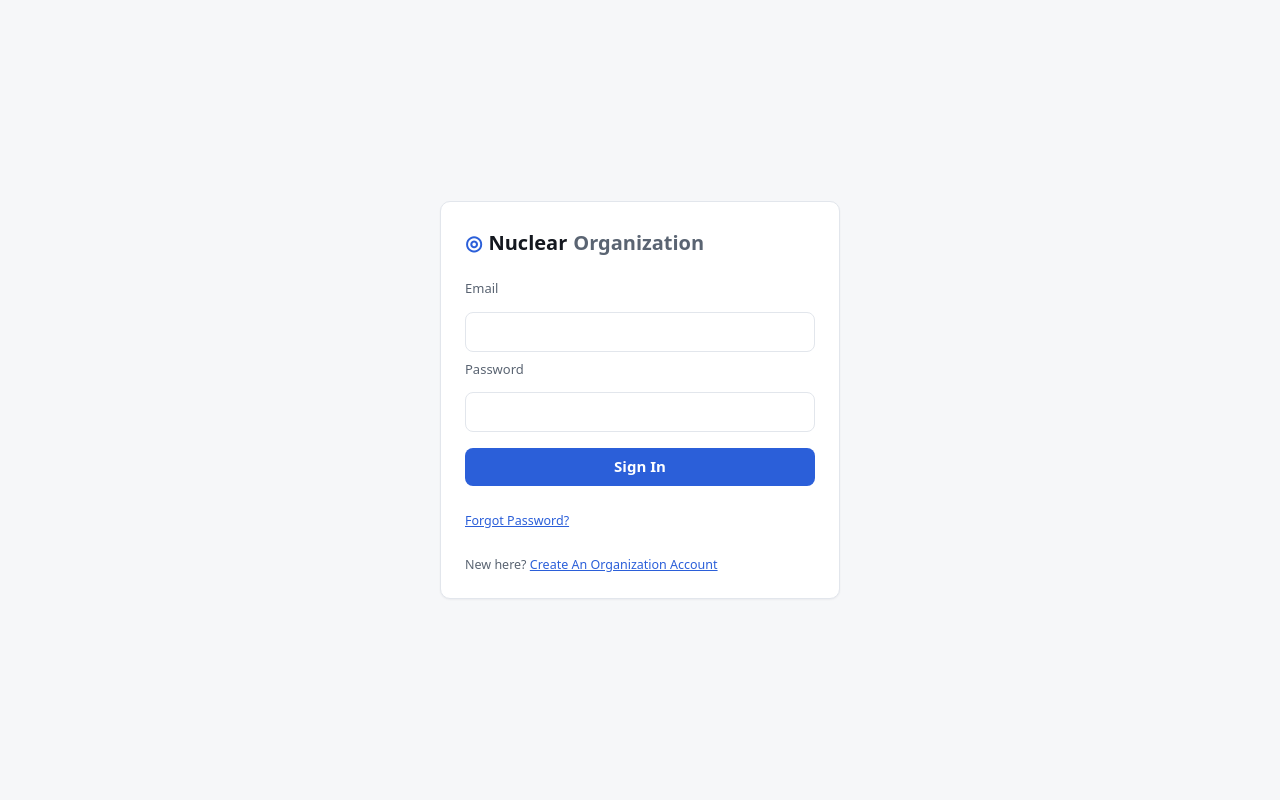
Test case: organization portal › mass edit › a flexible organization can only remove or clear the selection (no fixed-benefit actions)
Type "HR@Acme.test" into the field labelled "Email" at [640, 332], box [465,312,815,352]
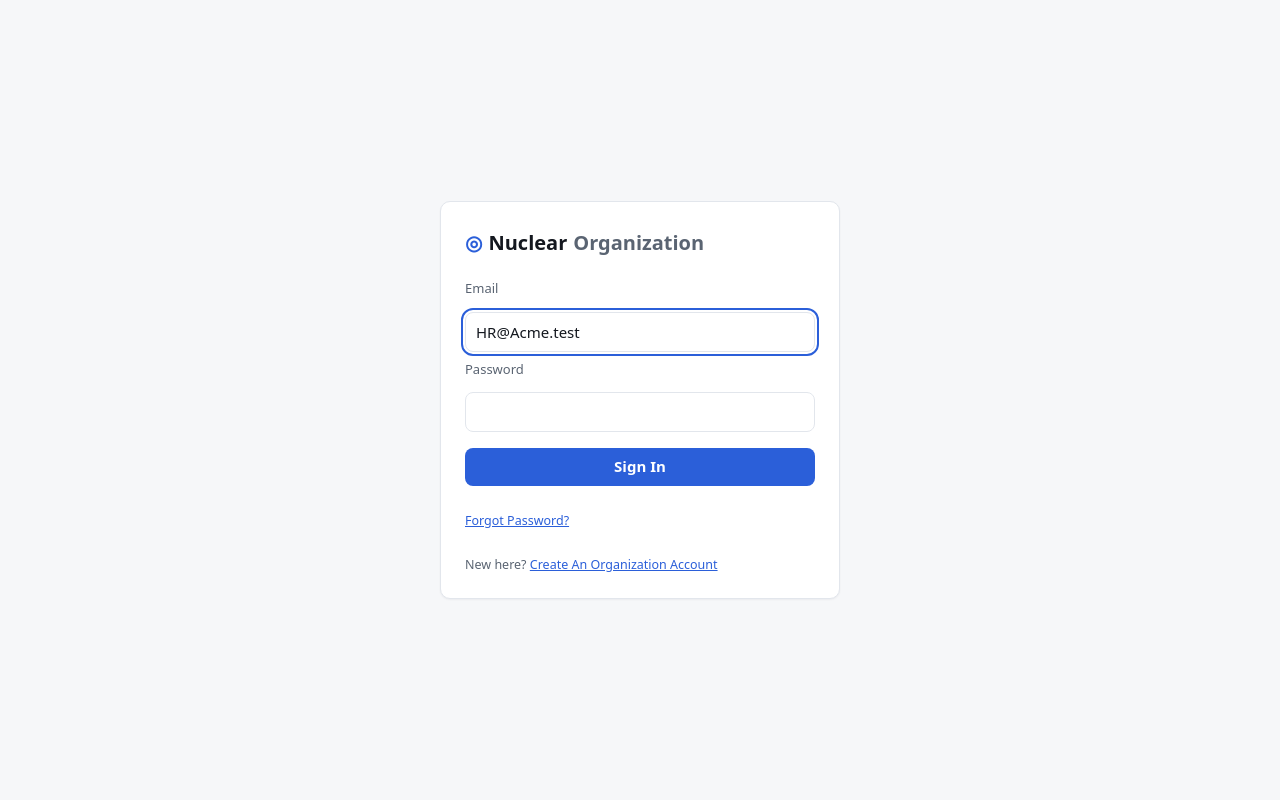
Type "correct horse battery" into the password field labelled "Password" at [640, 412], box [465,392,815,432]
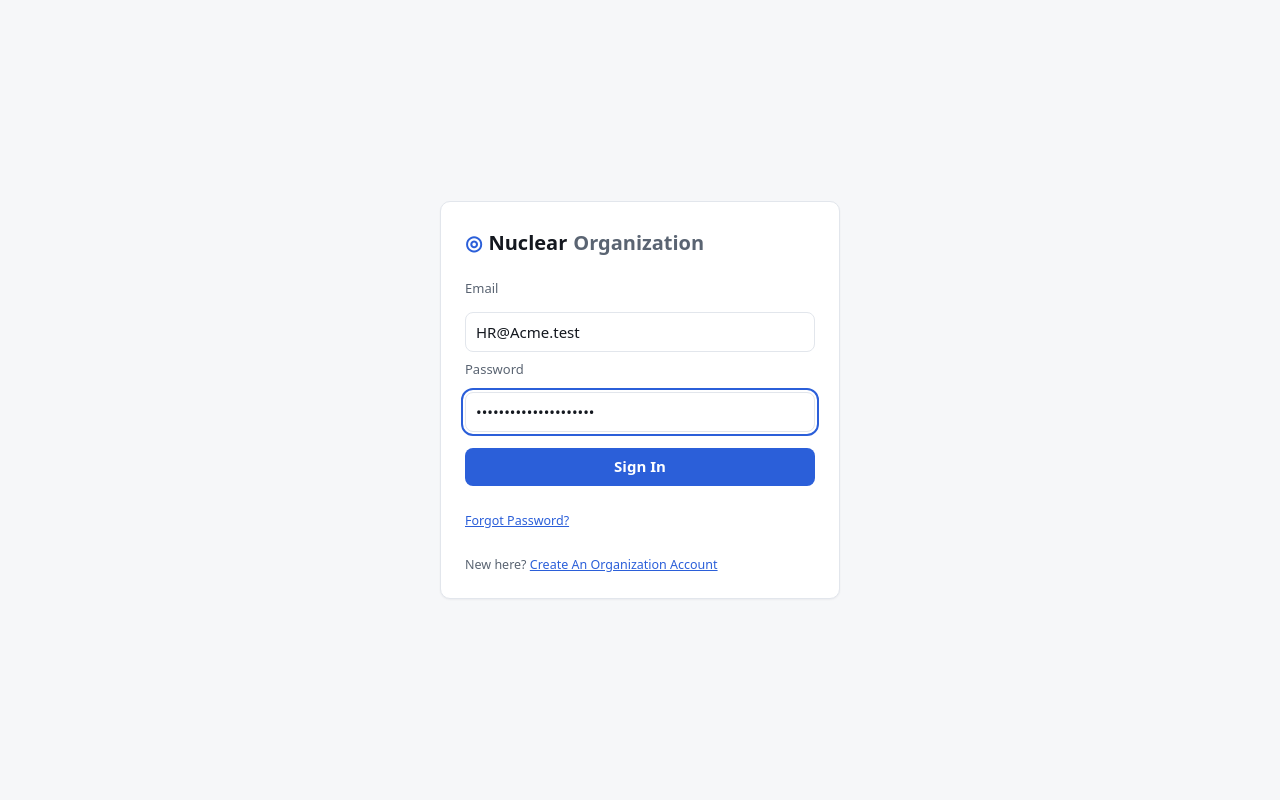
Click the button "Sign In" at [640, 467], box [465,448,815,486]
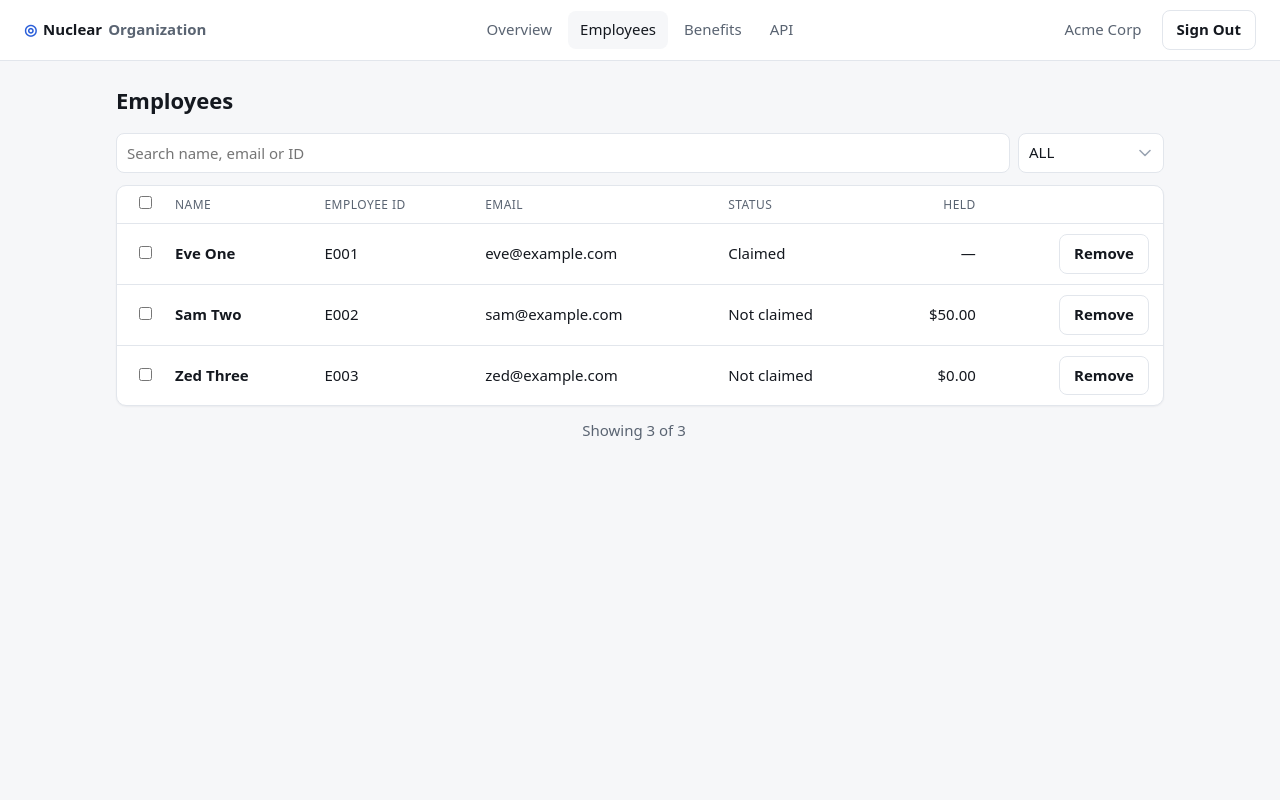
Now the column heading "Zed Three" is shown, box [161,345,310,405]
Click the checkbox named "Select Zed Three" at [145, 374], box [138,368,152,380]
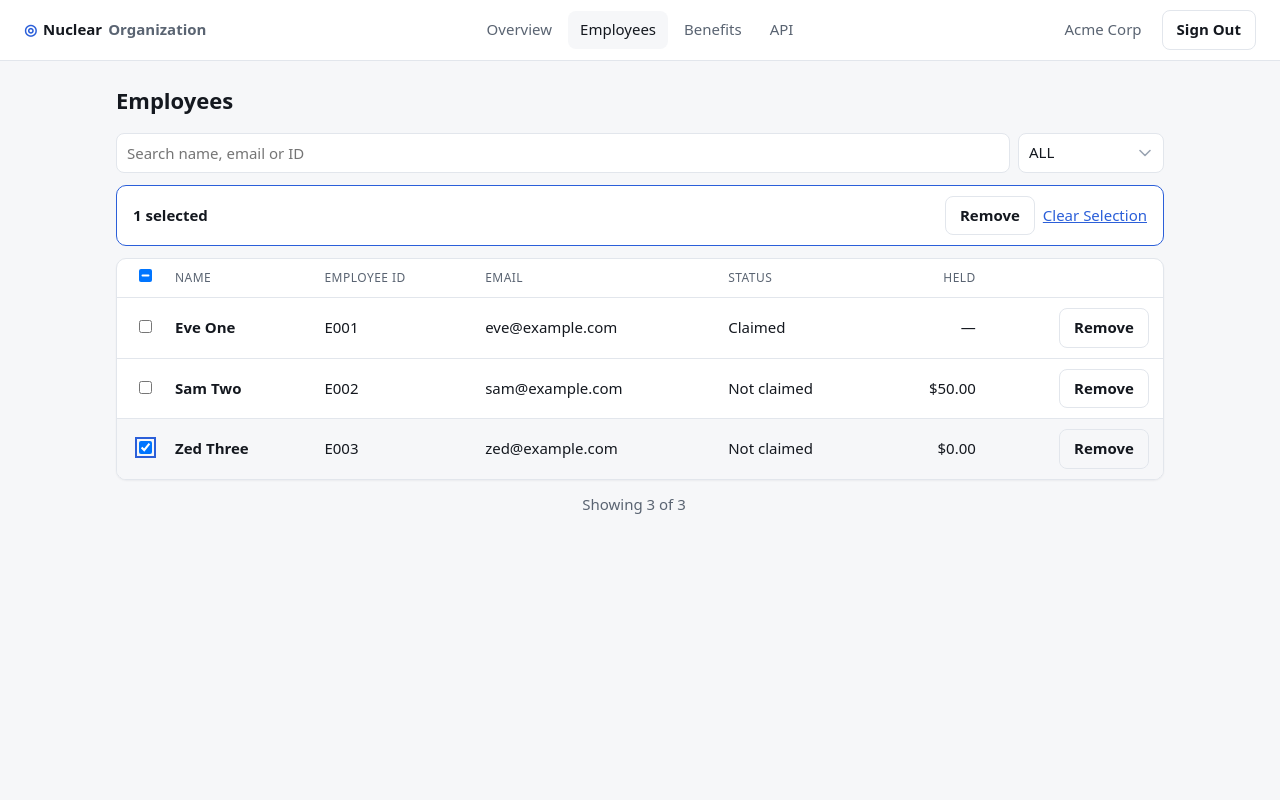
Now the buttons read "Remove", "Clear Selection", in this order, box [945,196,1035,235]; [1043,205,1147,226]
